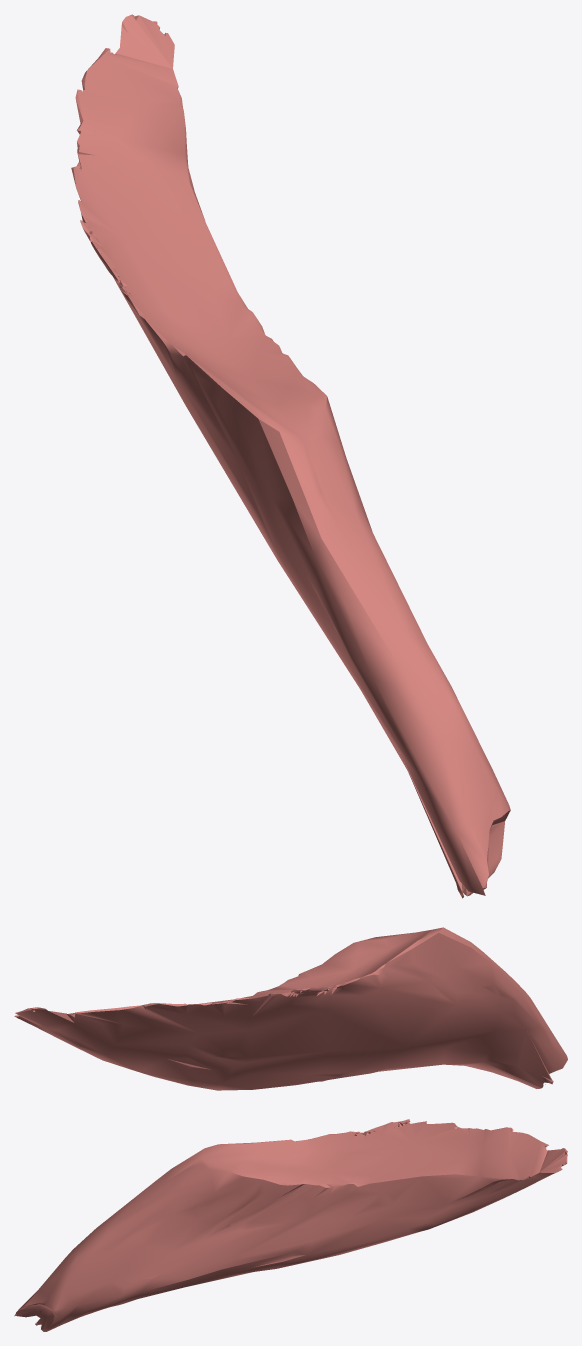
File: fma32534_fj1585.glb
3 renders of one model, top to bottom at view 1: azimuth 30°, elevation 25°; view 2: azimuth 150°, elevation 25°; view 3: azimuth 270°, elevation 25°, orthographic. The views are drawn at different scales.
Parts seen in each view (by area): view 1: FMA32534_FJ1585; view 2: FMA32534_FJ1585; view 3: FMA32534_FJ1585.
Boxes of the visible parts, x1=… form: FMA32534_FJ1585: x1=71, y1=14, x2=510, y2=898; FMA32534_FJ1585: x1=14, y1=927, x2=567, y2=1090; FMA32534_FJ1585: x1=14, y1=1119, x2=567, y2=1331.
Bounding box in the file's own units: 0.0139 × 0.0229 × 0.0508.
